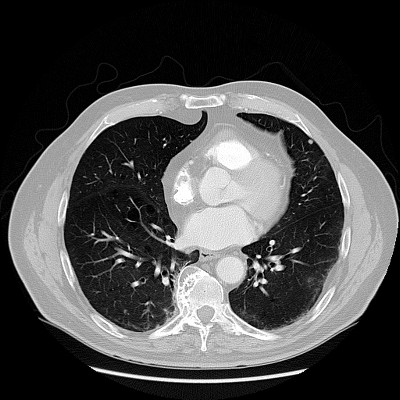nodule: (307, 138, 313, 144)
